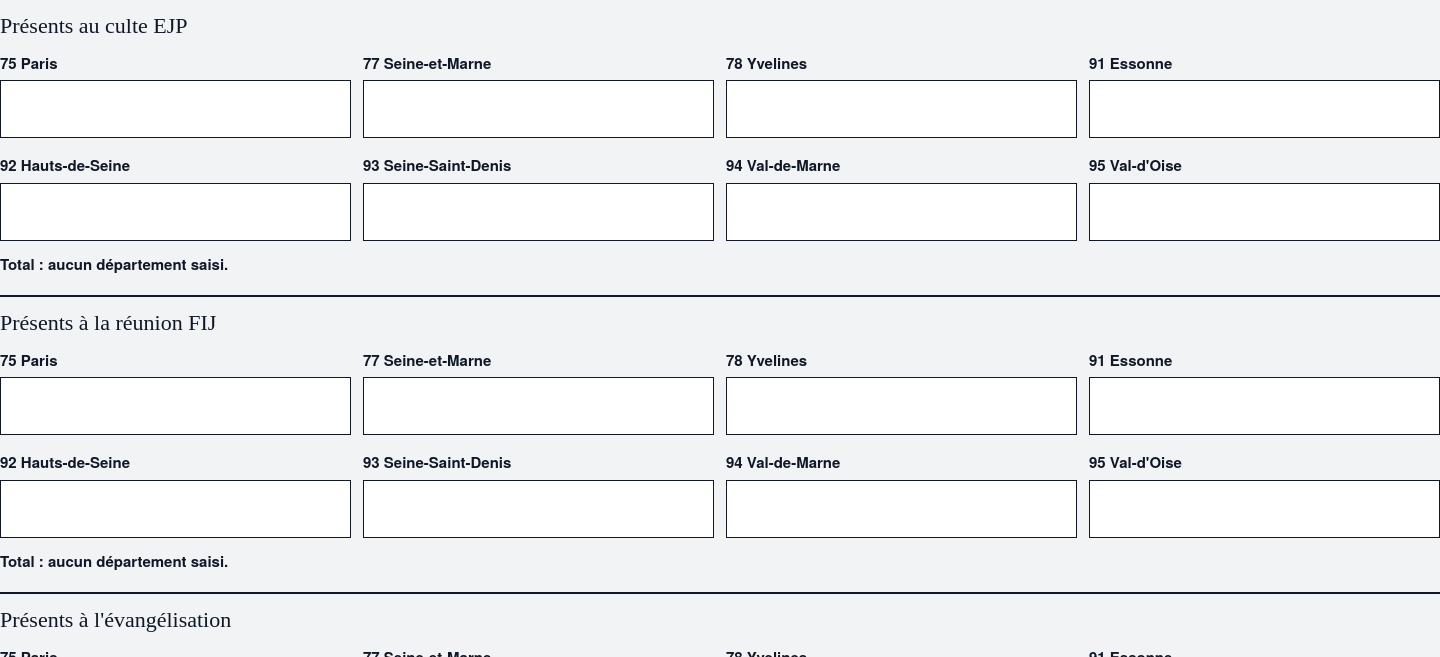
it: FormulaireStatistiquesFij › refuse une valeur hors bornes sous son champ
Type "10000" into the 2nd field labelled "91 Essonne" at [1264, 406], box [1089,377,1439,435]
(page scrolled)
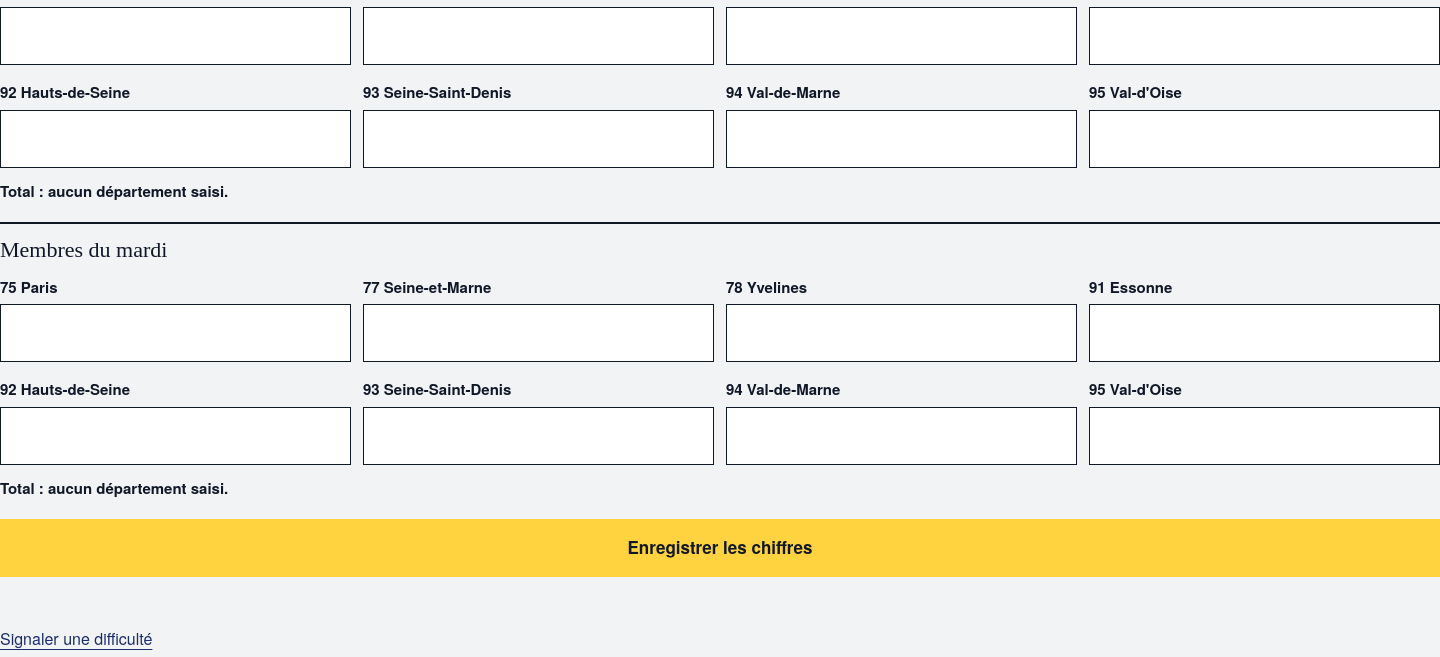
Click the button named "Enregistrer les chiffres" at [720, 548], box [0,519,1439,577]
(page scrolled)
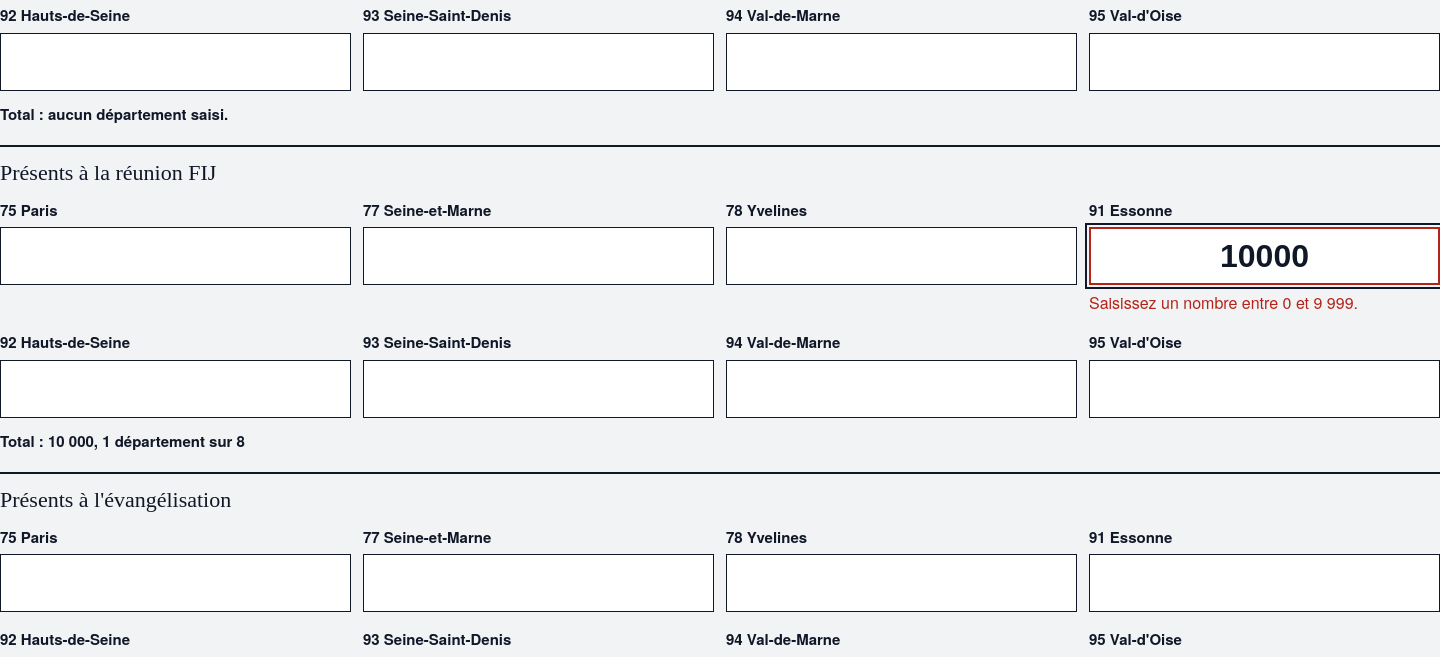
expect the text "Saisissez un nombre entre 0 et 9 999." is shown: met, box [1089,291,1358,314]
